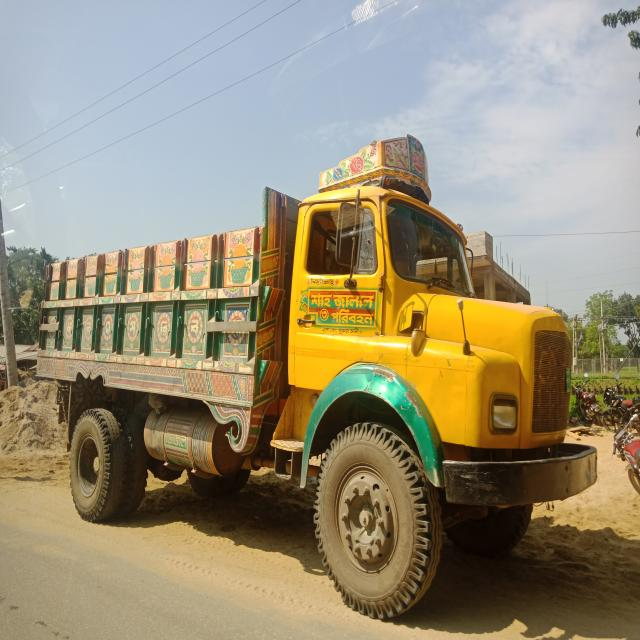motorbike: (601, 379, 632, 428), (573, 371, 600, 427), (614, 417, 640, 463)
truck: (29, 127, 597, 626)
